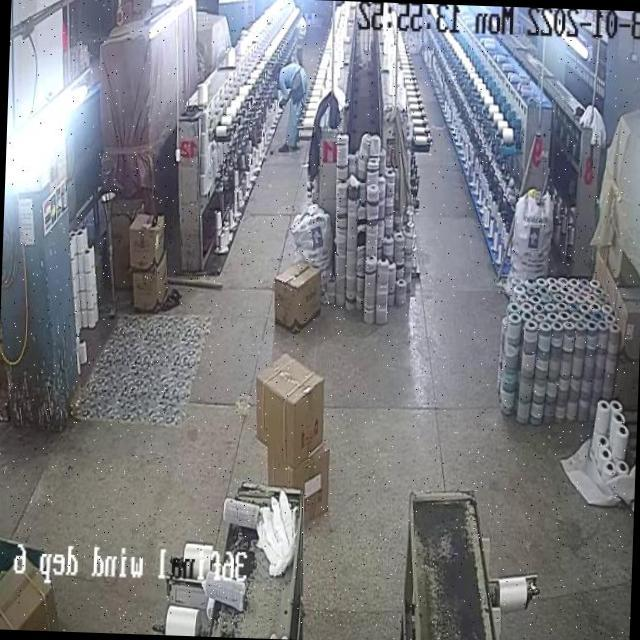person: (268, 58, 308, 152)
